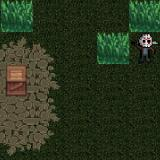Hide: (0, 60, 34, 101)
Jason: (129, 32, 160, 64)
Slow: (0, 0, 34, 32), (97, 32, 129, 64), (129, 0, 160, 32)
